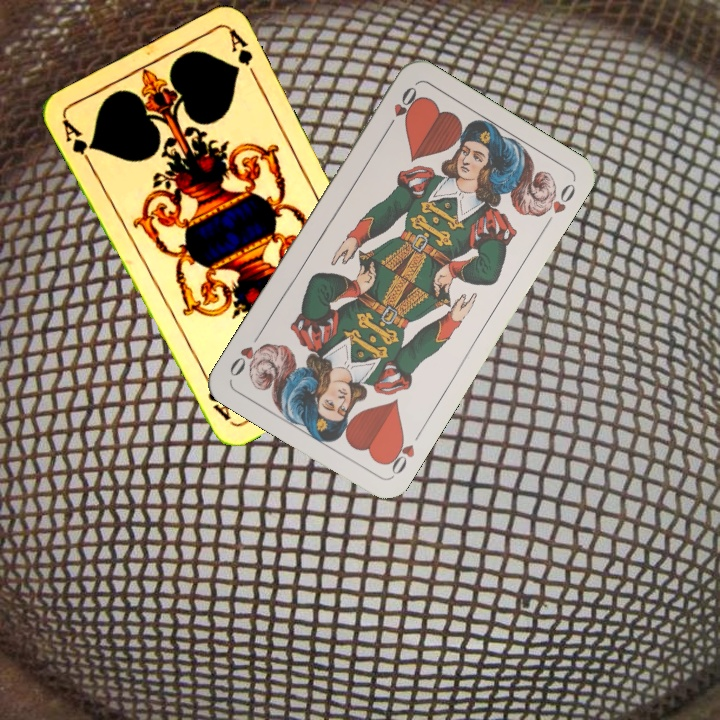GA: (58, 115, 97, 169)
HO: (381, 82, 420, 135), (381, 430, 418, 479)
